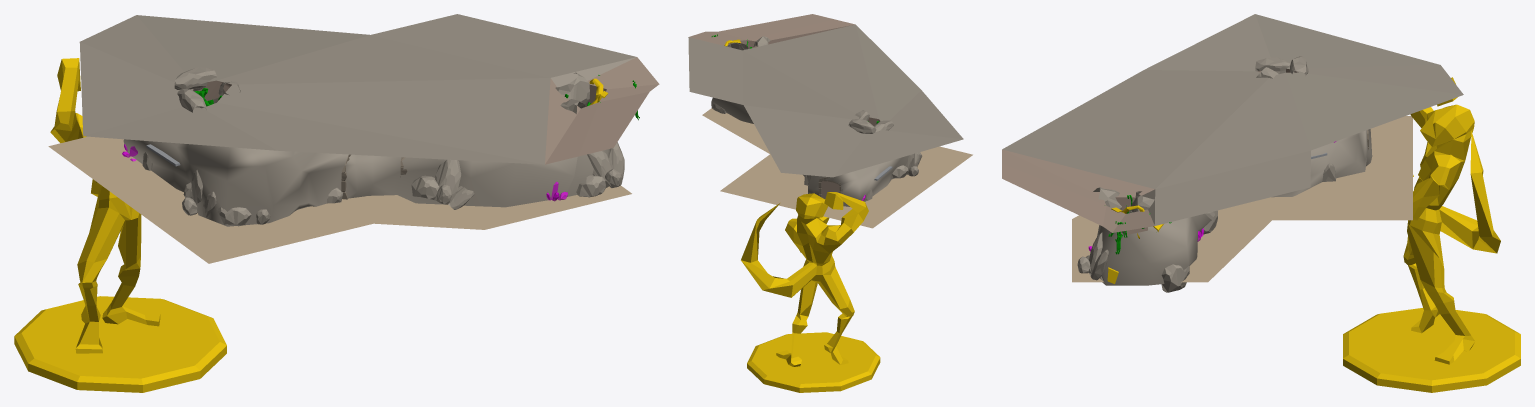
File: AlphaScene.fbx
3 renders of one model, left to right at view 1: azimuth 30°, elevation 25°; view 2: azimuth 150°, elevation 25°; view 3: azimuth 270°, elevation 25°, orthographic. The views are drawn at different scales.
Visible parts, largest first — view 1: pCube7, pCube21, pCube19, pCube9, rockpile3, rockpile2, rockpile1, tall rock 3, rockpile, wide rock3; view 2: pCube7, pCube19, pCube21, pCube9, rockpile1, tall rock 3; view 3: pCube7, pCube19, pCube21, pCube9, rockpile2, wide rock1.
Part boxes in pixels (x1,y1,x2,y2): pCube7: (79, 14, 659, 226); pCube21: (83, 15, 549, 203); pCube19: (14, 58, 226, 392); pCube9: (48, 136, 631, 263); rockpile3: (411, 159, 474, 209); rockpile2: (576, 142, 624, 197); rockpile1: (182, 170, 216, 217); tall rock 3: (174, 67, 216, 91); rockpile: (216, 207, 270, 226); wide rock3: (555, 72, 589, 105); pCube7: (688, 14, 963, 206); pCube19: (741, 192, 880, 392); pCube21: (742, 25, 920, 176); pCube9: (702, 108, 972, 228); rockpile1: (892, 152, 919, 178); tall rock 3: (848, 119, 876, 133); pCube7: (1002, 14, 1451, 285); pCube19: (1343, 77, 1520, 392); pCube21: (1002, 29, 1463, 258); pCube9: (1072, 116, 1412, 282); rockpile2: (1077, 232, 1108, 281); wide rock1: (1161, 264, 1189, 292).
Bounding box in the file's own units: 9292 × 5969 × 9605.
